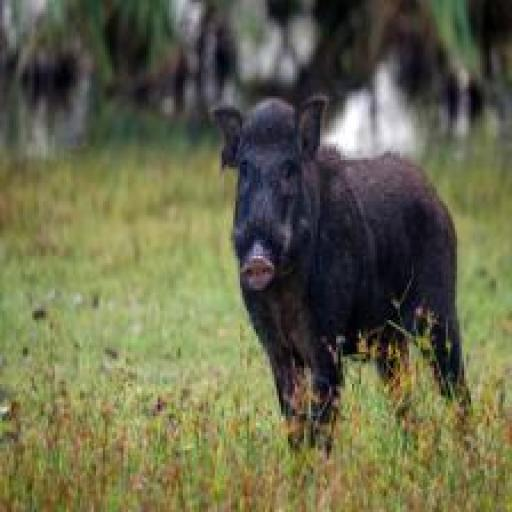Pig: (204, 75, 474, 448)
